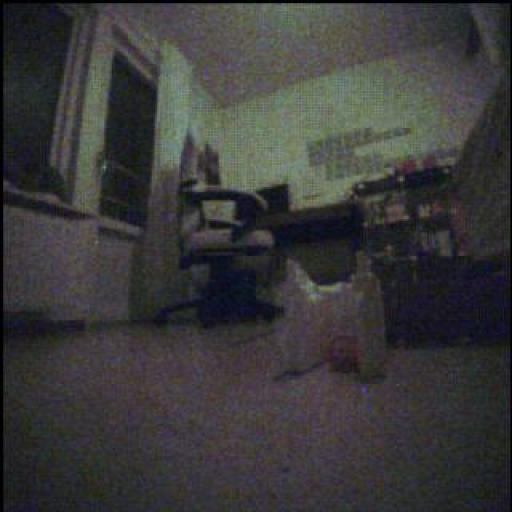basket: (327, 334, 358, 375)
